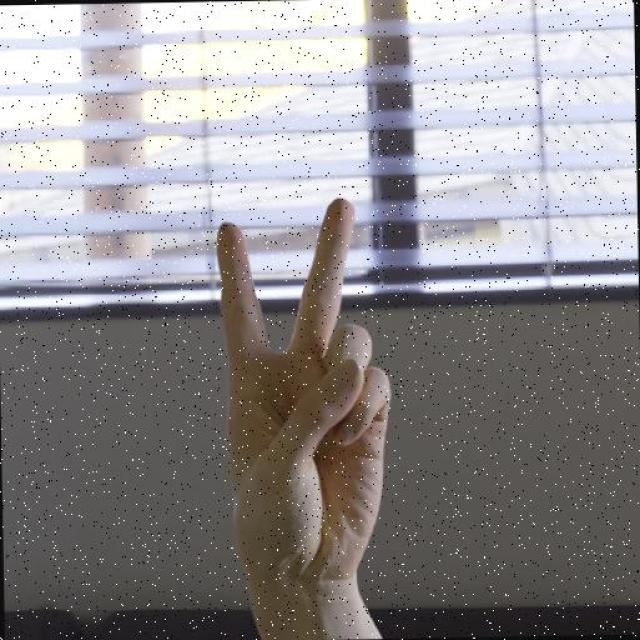V: (205, 195, 404, 623)
